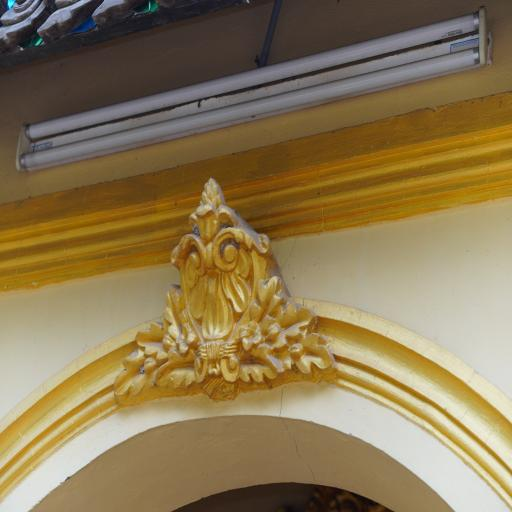la: (90, 167, 362, 414)
